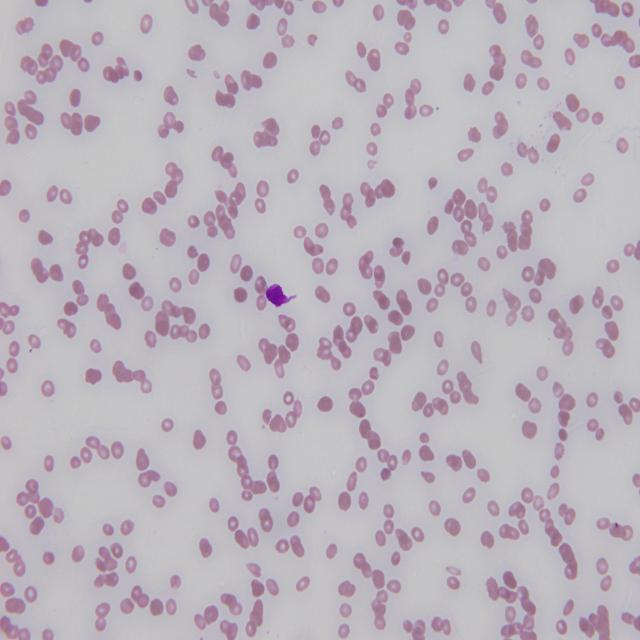cell: (265, 284, 296, 308)
